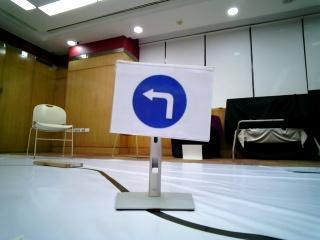left: (116, 63, 203, 138)
